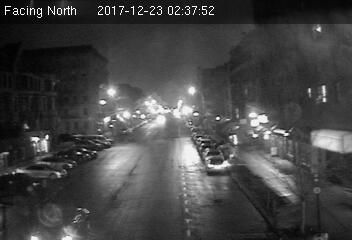car: (204, 157, 227, 174)
